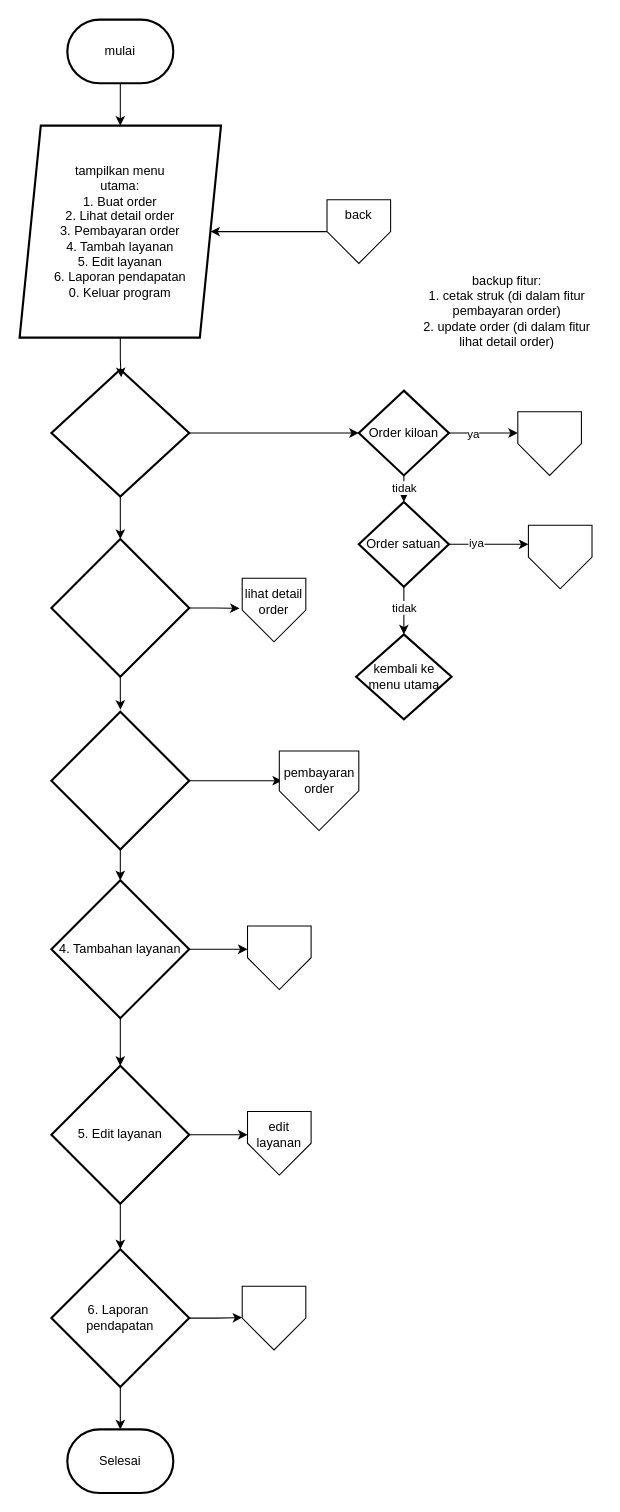
This 620x1512 diagram has some shape labels left out. The shapes that lost their labels are listed below. From the top down, each one's box as (x1, y1, x2, y2) in pixels, then its label:
(50, 368, 190, 497): 1. Buat order
(517, 411, 581, 475): Kiloan
(527, 524, 592, 589): Satuan
(50, 537, 190, 677): 2. Lihat detail order
(50, 710, 190, 850): 3. Pembayaran order
(246, 925, 311, 990): tambah layanan
(241, 1285, 306, 1350): laporan pendapatan
